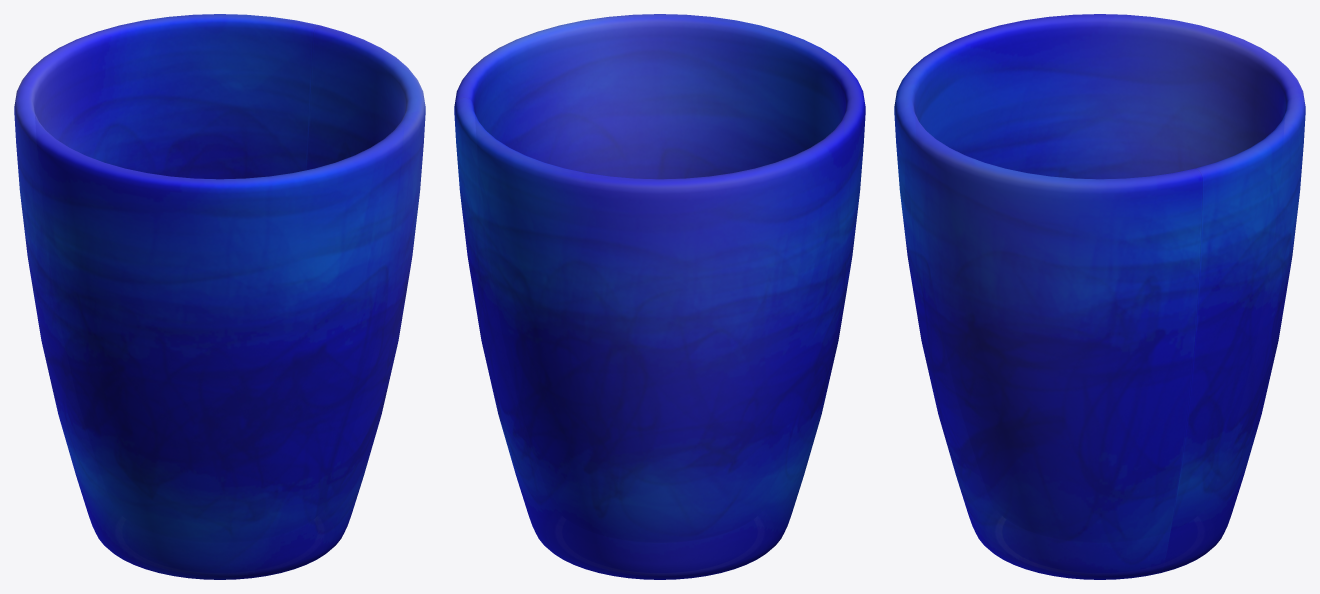
Rendered from sonje_set_of_4_tumblers_blue.glb.
3 renders of one model, left to right at view 1: azimuth 30°, elevation 25°; view 2: azimuth 150°, elevation 25°; view 3: azimuth 270°, elevation 25°, orthographic.
Visible parts, largest first — view 1: Sonje_Set_of_4_Tumblers; view 2: Sonje_Set_of_4_Tumblers; view 3: Sonje_Set_of_4_Tumblers.
Part boxes in pixels (x1=…): Sonje_Set_of_4_Tumblers: x1=14, y1=14, x2=425, y2=579; Sonje_Set_of_4_Tumblers: x1=454, y1=14, x2=865, y2=579; Sonje_Set_of_4_Tumblers: x1=894, y1=14, x2=1305, y2=579.
Size of what is drawn, in the model's own units: 8.18 by 9.53 by 8.18.
Materials: 1 (1 with a texture image).
